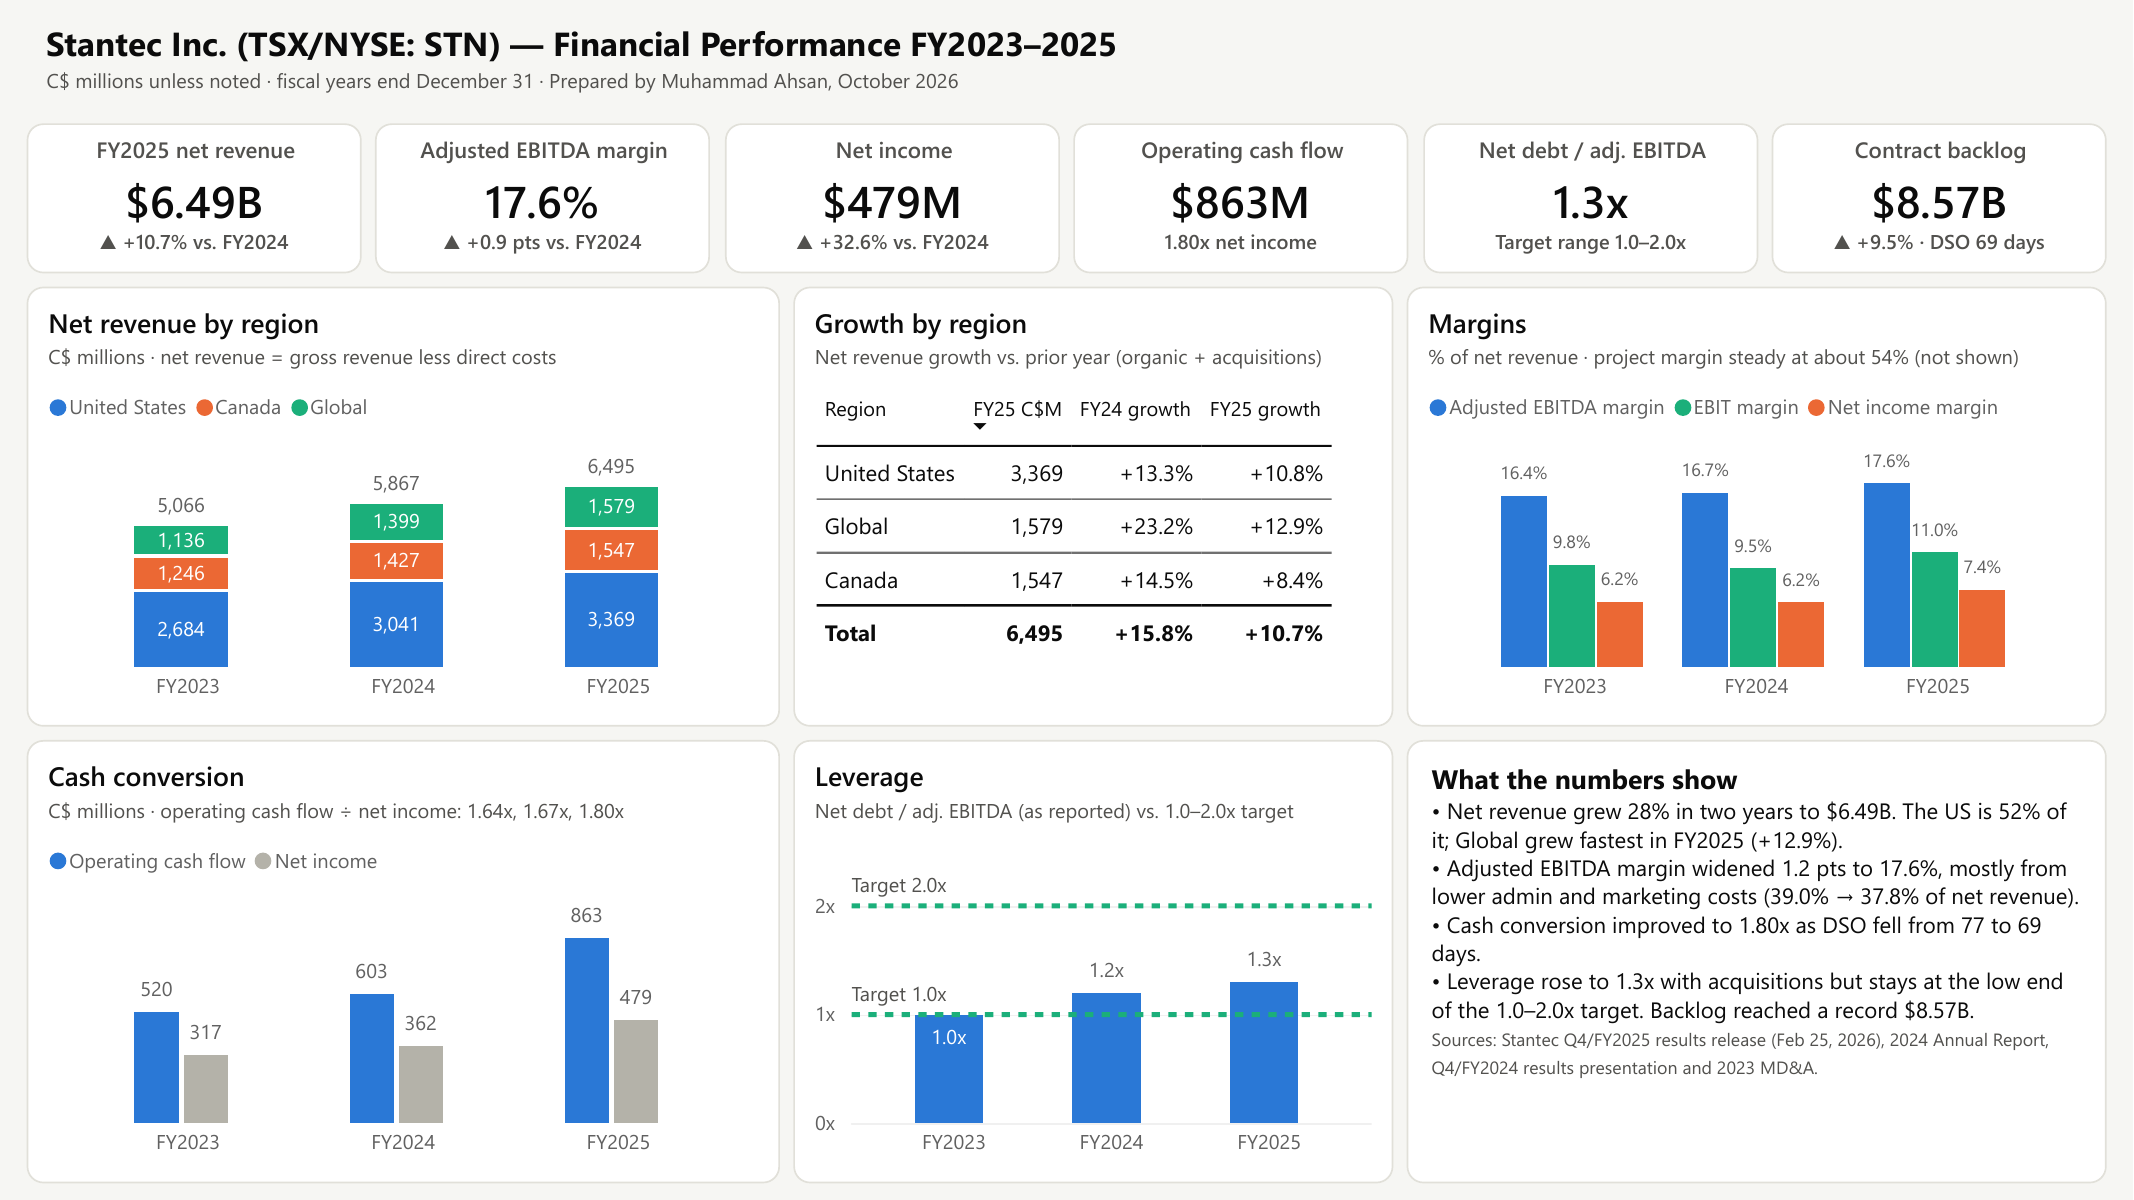

What the dashboard file says about the page in this screenshot:
{"tool":"powerbi","page":{"name":"Performance 2023–2025","canvas":[1280,720],"ordinal":0},"visuals":[{"type":"textbox","box":[16,2,1100,70],"z":0},{"type":"columnChart","title":"Net revenue by region","fields":{"Category":["DimYear.YearLabel"],"Series":["FactSegment.Segment"],"Y":["_Measures.Segment Net Revenue"]},"box":[16,172,452,264],"z":1000},{"type":"tableEx","title":"Growth by region","fields":{"Values":["FactSegment.Segment","_Measures.Segment Net Revenue Latest","_Measures.Segment Growth Prior Year","_Measures.Segment Growth Latest"]},"box":[476,172,360,264],"z":2000},{"type":"clusteredColumnChart","title":"Margins","fields":{"Category":["DimYear.YearLabel"],"Y":["_Measures.Adj EBITDA Margin %","_Measures.EBIT Margin %","_Measures.Net Income Margin %"]},"box":[844,172,420,264],"z":3000},{"type":"clusteredColumnChart","title":"Cash conversion","fields":{"Category":["DimYear.YearLabel"],"Y":["_Measures.Operating Cash Flow","_Measures.Net Income"]},"box":[16,444,452,266],"z":4000},{"type":"clusteredColumnChart","title":"Leverage","fields":{"Category":["DimYear.YearLabel"],"Y":["_Measures.Net Debt to Adj EBITDA"]},"box":[476,444,360,266],"z":5000},{"type":"textbox","box":[844,444,420,266],"z":6000},{"type":"card","title":"FY2025 net revenue","fields":{"Values":["_Measures.KPI Net Revenue"]},"box":[16,74,201,90],"z":7000},{"type":"card","fields":{"Values":["_Measures.KPI Net Revenue Label"]},"box":[20,137,193,22],"z":8000},{"type":"card","title":"Adjusted EBITDA margin","fields":{"Values":["_Measures.KPI Adj EBITDA Margin"]},"box":[225.4,74,201,90],"z":9000},{"type":"card","fields":{"Values":["_Measures.KPI Adj EBITDA Margin Label"]},"box":[229.4,137,193,22],"z":10000},{"type":"card","title":"Net income","fields":{"Values":["_Measures.KPI Net Income"]},"box":[434.8,74,201,90],"z":11000},{"type":"card","fields":{"Values":["_Measures.KPI Net Income Label"]},"box":[438.8,137,193,22],"z":12000},{"type":"card","title":"Operating cash flow","fields":{"Values":["_Measures.KPI Operating Cash Flow"]},"box":[644.2,74,201,90],"z":13000},{"type":"card","fields":{"Values":["_Measures.KPI Operating Cash Flow Label"]},"box":[648.2,137,193,22],"z":14000},{"type":"card","title":"Net debt / adj. EBITDA","fields":{"Values":["_Measures.KPI Net Debt to Adj EBITDA"]},"box":[853.6,74,201,90],"z":15000},{"type":"card","fields":{"Values":["_Measures.KPI Net Debt Label"]},"box":[857.6,137,193,22],"z":16000},{"type":"card","title":"Contract backlog","fields":{"Values":["_Measures.KPI Backlog"]},"box":[1063,74,201,90],"z":17000},{"type":"card","fields":{"Values":["_Measures.KPI Backlog Label"]},"box":[1067,137,193,22],"z":18000}]}

Visuals, with their boxes in screenshot pixels (x1, y1, x2, y2), scaled from the page's 1280x720 canvas onto the 2134x1200 screenshot:
textbox: 27, 3, 1861, 120
"Net revenue by region" columnChart: 27, 287, 780, 727
"Growth by region" tableEx: 794, 287, 1394, 727
"Margins" clusteredColumnChart: 1407, 287, 2107, 727
"Cash conversion" clusteredColumnChart: 27, 740, 780, 1183
"Leverage" clusteredColumnChart: 794, 740, 1394, 1183
textbox: 1407, 740, 2107, 1183
"FY2025 net revenue" card: 27, 123, 362, 273
card - _Measures.KPI Net Revenue Label: 33, 228, 355, 265
"Adjusted EBITDA margin" card: 376, 123, 711, 273
card - _Measures.KPI Adj EBITDA Margin Label: 382, 228, 704, 265
"Net income" card: 725, 123, 1060, 273
card - _Measures.KPI Net Income Label: 732, 228, 1053, 265
"Operating cash flow" card: 1074, 123, 1409, 273
card - _Measures.KPI Operating Cash Flow Label: 1081, 228, 1402, 265
"Net debt / adj. EBITDA" card: 1423, 123, 1758, 273
card - _Measures.KPI Net Debt Label: 1430, 228, 1752, 265
"Contract backlog" card: 1772, 123, 2107, 273
card - _Measures.KPI Backlog Label: 1779, 228, 2101, 265
